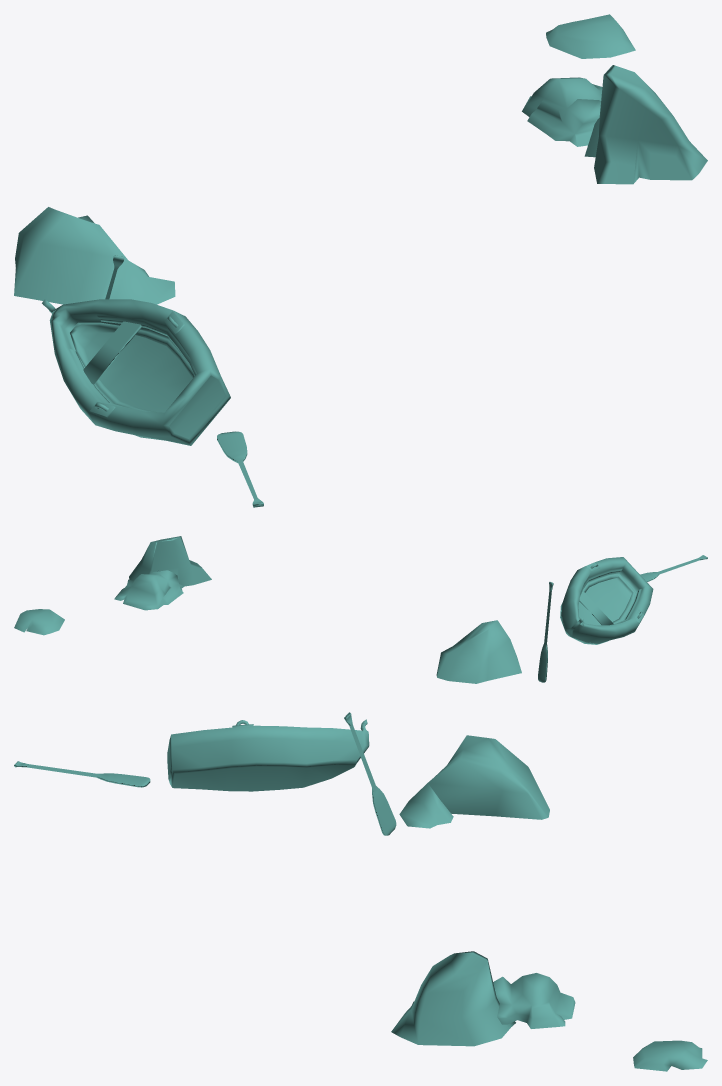
Rendered from arena_obj_a.fbx.
3 renders of one model, top to bottom at view 1: azimuth 30°, elevation 25°; view 2: azimuth 150°, elevation 25°; view 3: azimuth 270°, elevation 25°, orthographic. The views are drawn at different scales.
Parts seen in each view (by area): view 1: bote, rock_a, rock_d, rock_c, rock_b, paddle; view 2: bote, rock_a, rock_d, rock_c, rock_b, paddle_b, paddle; view 3: bote, rock_a, rock_d, rock_c, rock_b, paddle_b, paddle.
Part boxes in pixels (bbox=[...]): bote: bbox=[42, 299, 230, 445]; rock_a: bbox=[14, 207, 175, 304]; rock_d: bbox=[584, 65, 707, 184]; rock_c: bbox=[522, 77, 602, 146]; rock_b: bbox=[546, 14, 635, 58]; paddle: bbox=[217, 431, 263, 507]; bote: bbox=[560, 557, 653, 644]; rock_a: bbox=[436, 620, 521, 683]; rock_d: bbox=[129, 536, 211, 590]; rock_c: bbox=[114, 570, 184, 610]; rock_b: bbox=[14, 609, 64, 635]; paddle_b: bbox=[538, 582, 553, 682]; paddle: bbox=[640, 555, 707, 581]; bote: bbox=[167, 719, 369, 791]; rock_a: bbox=[399, 735, 549, 828]; rock_d: bbox=[391, 951, 515, 1046]; rock_c: bbox=[493, 973, 575, 1028]; rock_b: bbox=[633, 1040, 707, 1071]; paddle_b: bbox=[344, 712, 396, 835]; paddle: bbox=[14, 761, 150, 787].
Size of the model in its own units: 19.18 by 3.47 by 17.63.
